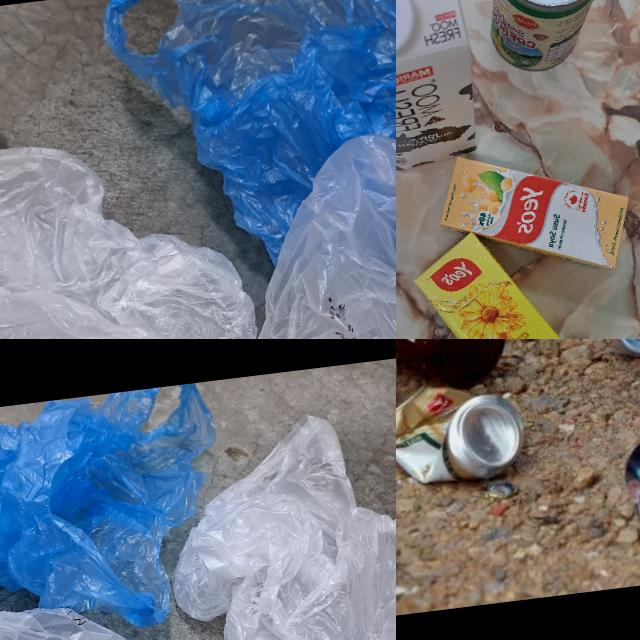caixinha: (433, 138, 636, 286), (410, 218, 593, 339), (396, 0, 486, 185)
lata: (475, 0, 619, 80)
sacola plástica: (95, 0, 396, 291), (0, 379, 245, 640), (0, 120, 289, 339), (159, 390, 396, 640), (162, 128, 396, 339), (0, 499, 248, 640)
